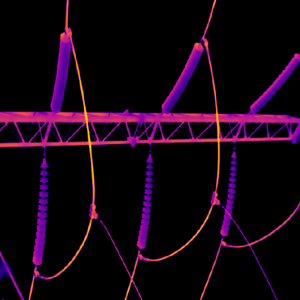insulator: (160, 41, 203, 114), (248, 52, 299, 113), (30, 156, 49, 266), (49, 31, 72, 115), (135, 151, 153, 250), (219, 151, 238, 238)
